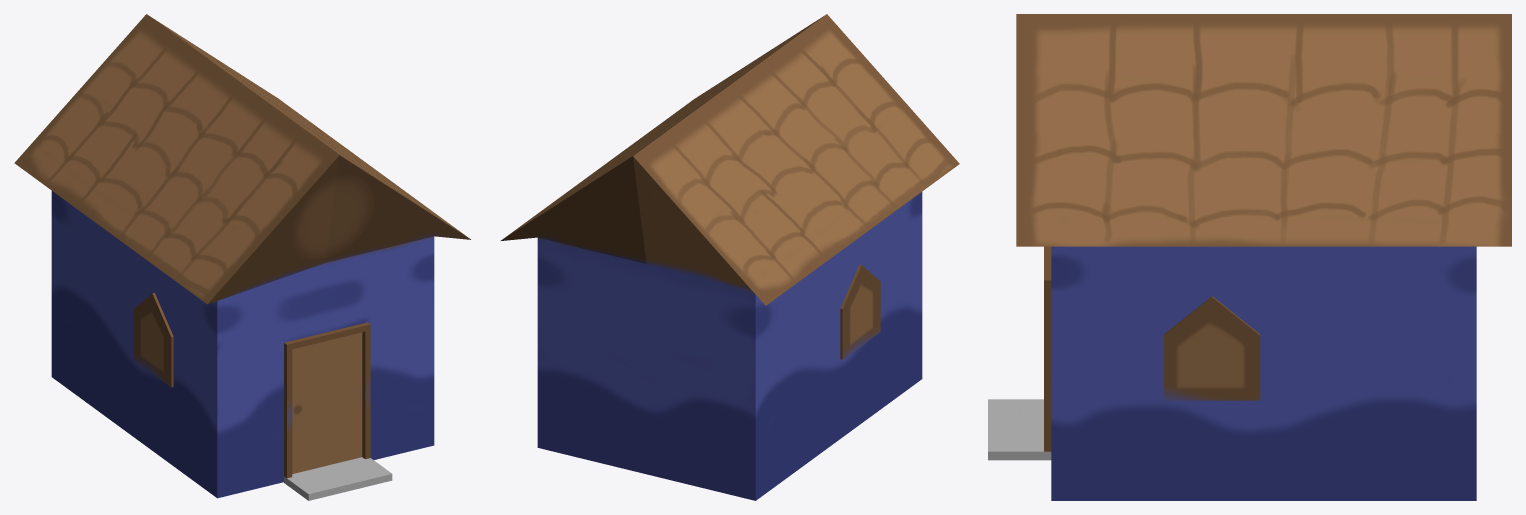
Rendered from House.fbx.
The picture shows the model from 3 angles, left to right: view 1: azimuth 30°, elevation 25°; view 2: azimuth 150°, elevation 25°; view 3: azimuth 270°, elevation 25°; orthographic projection. The views are drawn at different scales.
Parts seen in each view (by area): view 1: Cube.001; view 2: Cube.001; view 3: Cube.001.
Part boxes in pixels (x1=…): Cube.001: x1=14, y1=14, x2=470, y2=500; Cube.001: x1=501, y1=14, x2=959, y2=500; Cube.001: x1=988, y1=14, x2=1511, y2=500.
Bounding box in the file's own units: 3542 × 4192 × 4737.
